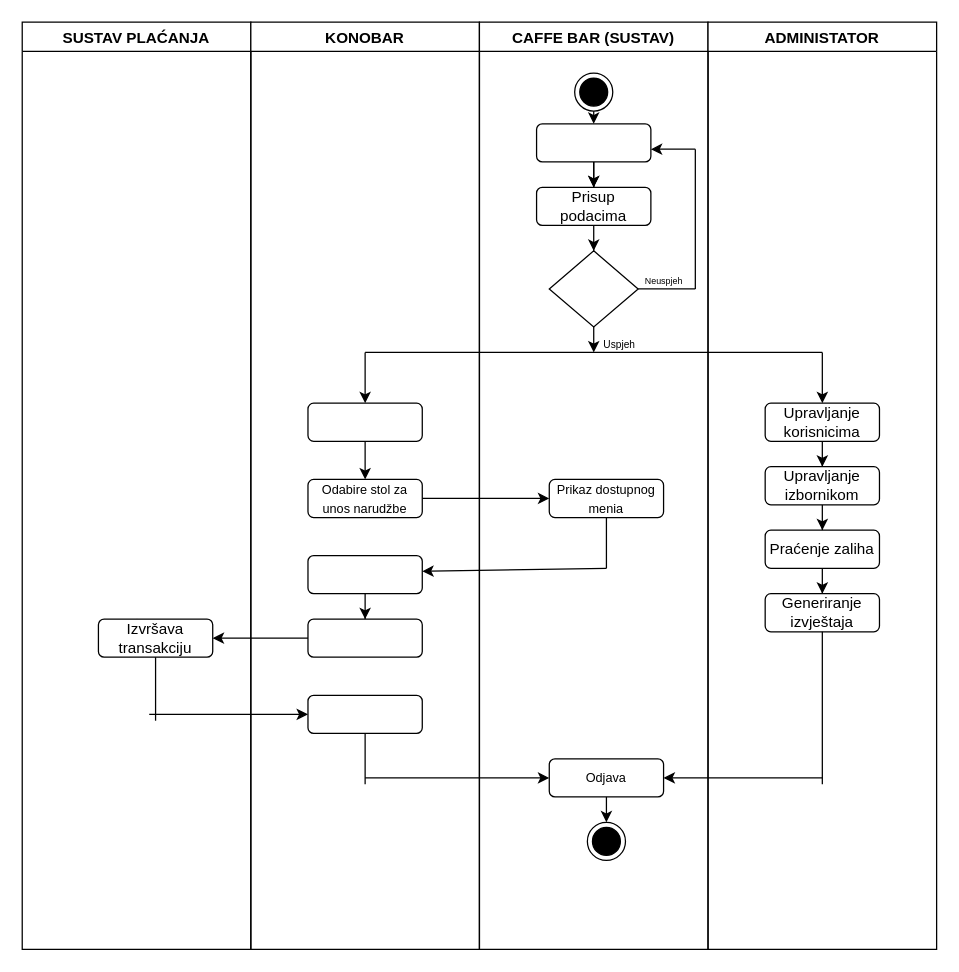
Some shapes in this 959 by 972 pixel diagram are drawn without their labels. The shapes that lost their labels are listed below. From the top down, each one's centre as x and y in pixels, then its label:
At [593,142]: "Prijava".
At [593,288]: "Provjera".
At [364,421]: "Praćenje statusa stola".
At [364,574]: "Odabire piće i potvrđuje narudžbu".
At [364,637]: "Bira način plaćanja".
At [364,713]: "Izdavanje računa".
